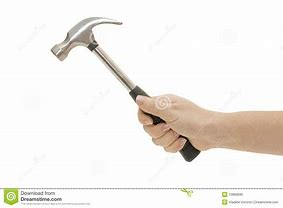hammer: (49, 14, 202, 164)
